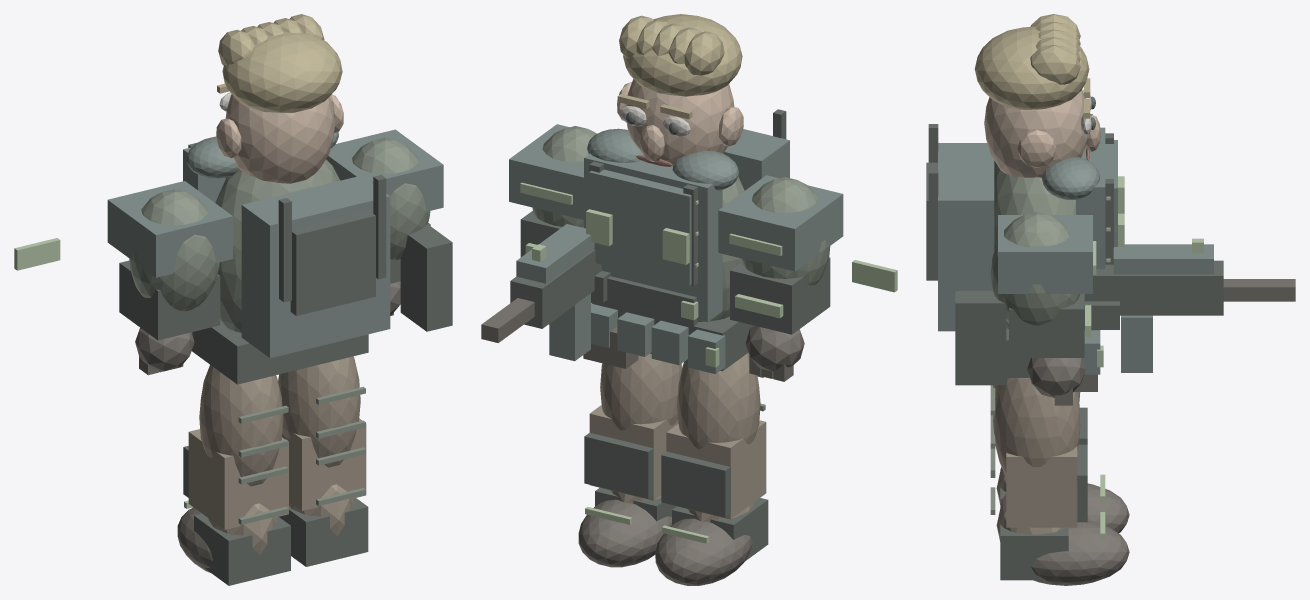
The model's file is bastion.glb.
3 views of the same model, side by side, from view 1: azimuth 30°, elevation 25°; view 2: azimuth 150°, elevation 25°; view 3: azimuth 270°, elevation 25° (orthographic).
Parts seen in each view (by area): view 1: RigRoot_Model, LeftLegPivot_Model, LeftArmPivot_Model, HeadPivot_Model, RightLegPivot_Model, RightArmPivot_Model; view 2: RigRoot_Model, LeftLegPivot_Model, LeftArmPivot_Model, RightLegPivot_Model, HeadPivot_Model, RightArmPivot_Model; view 3: RigRoot_Model, RightLegPivot_Model, RightArmPivot_Model, HeadPivot_Model, LeftLegPivot_Model.
Part boxes in pixels (x1,y1,x2,y2): RigRoot_Model: (183,132,452,384); LeftLegPivot_Model: (177,365,290,585); LeftArmPivot_Model: (14,181,233,375); HeadPivot_Model: (216,14,343,183); RightLegPivot_Model: (278,356,368,566); RightArmPivot_Model: (326,129,443,315); RigRoot_Model: (481,109,789,373); LeftLegPivot_Model: (655,352,768,585); LeftArmPivot_Model: (718,175,897,381); RightLegPivot_Model: (578,353,682,567); HeadPivot_Model: (617,14,743,166); RightArmPivot_Model: (509,124,596,324); RigRoot_Model: (926,124,1295,391); RightLegPivot_Model: (990,378,1129,585); RightArmPivot_Model: (990,212,1096,405); HeadPivot_Model: (974,14,1100,177); LeftLegPivot_Model: (990,385,1129,533).
Size of the model in its own units: 1.79 by 2.41 by 1.51.
